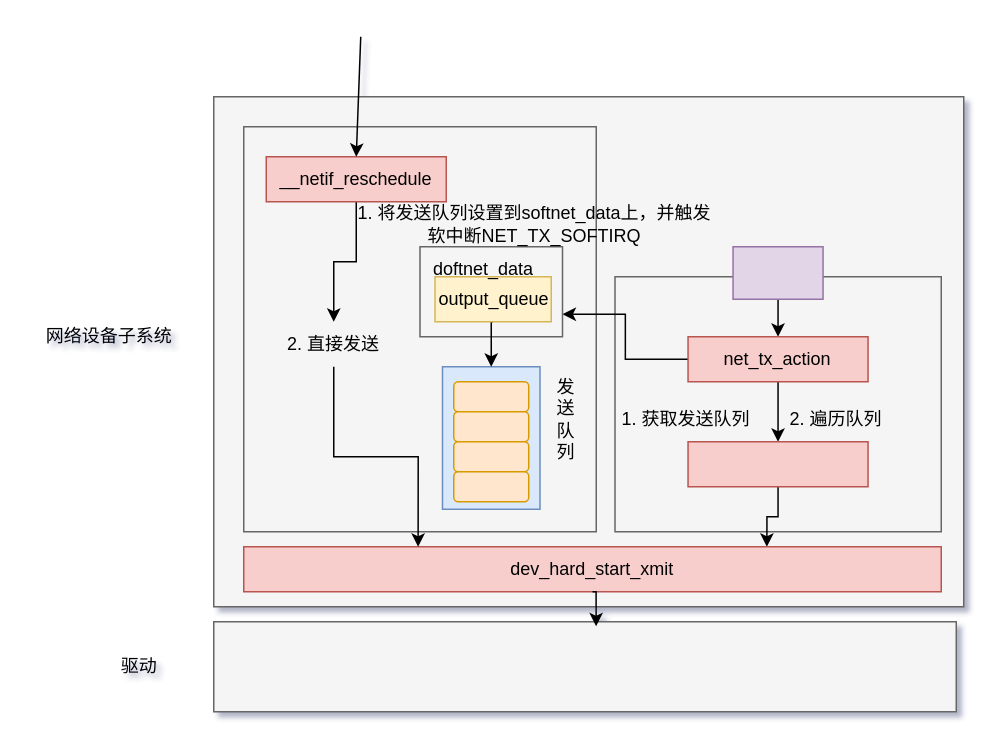
The diagram is 999 pixels wide and 747 high, and some of its shapes have lost their labels. Here are the shapes that lost their labels. From the top down, the box of each, then its label:
(732, 245, 823, 299): 软中断
(687, 440, 868, 487): qdisc_run
